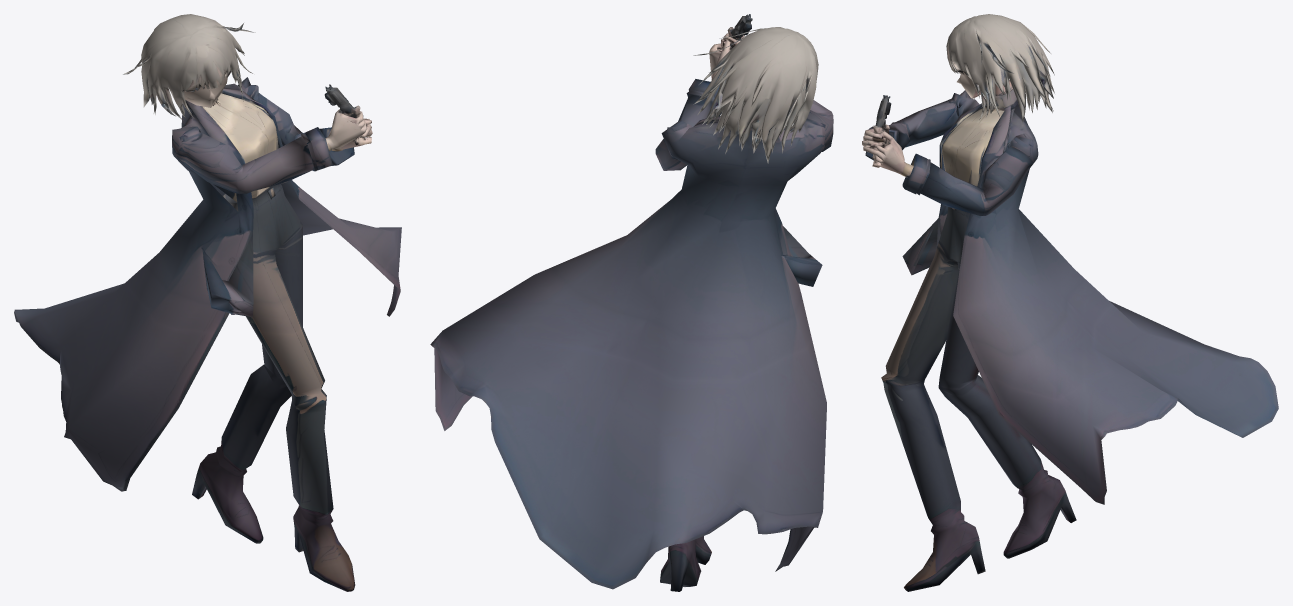
Rendered from bullet_0.glb.
3 renders of one model, left to right at view 1: azimuth 30°, elevation 25°; view 2: azimuth 150°, elevation 25°; view 3: azimuth 270°, elevation 25°, orthographic. The views are drawn at different scales.
Parts seen in each view (by area): view 1: tripo_node_ee595309-3deb-4c9d-a76e-fadf7da2f8fd; view 2: tripo_node_ee595309-3deb-4c9d-a76e-fadf7da2f8fd; view 3: tripo_node_ee595309-3deb-4c9d-a76e-fadf7da2f8fd.
Boxes of the visible parts, box(x1,y1,x2,y2) form: tripo_node_ee595309-3deb-4c9d-a76e-fadf7da2f8fd: box(14, 14, 401, 591); tripo_node_ee595309-3deb-4c9d-a76e-fadf7da2f8fd: box(430, 14, 833, 591); tripo_node_ee595309-3deb-4c9d-a76e-fadf7da2f8fd: box(862, 14, 1278, 591).
Bounding box in the file's own units: 0.6582 × 0.998 × 0.7246.
1 material, 1 textured.
